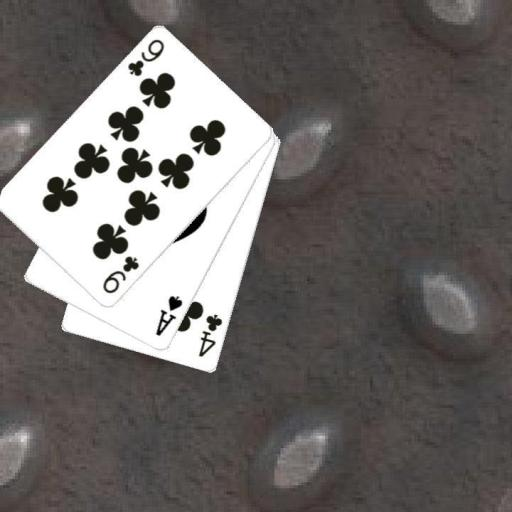card-corner: (99, 253, 141, 296), (124, 36, 166, 79), (152, 293, 184, 338), (196, 312, 224, 359)
